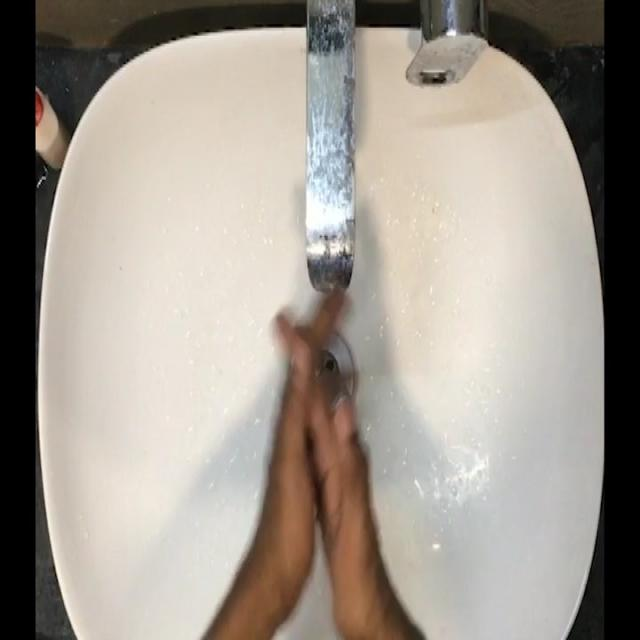step_3: (246, 246, 395, 596)
